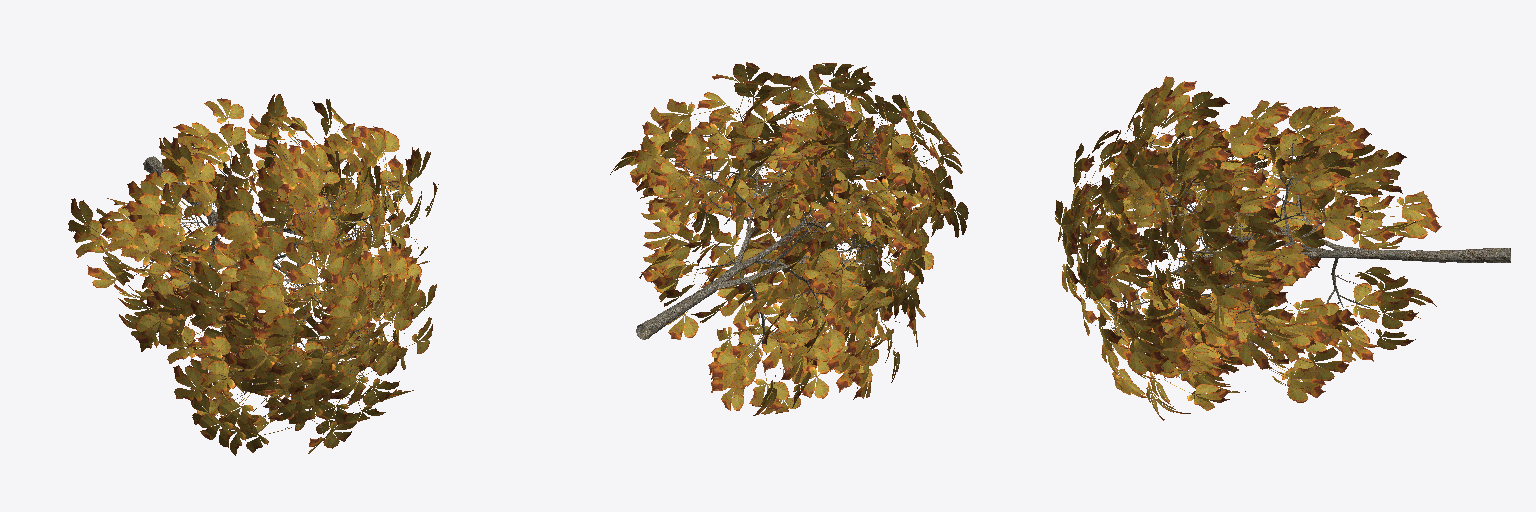
3 views of the same model, side by side, from view 1: azimuth 30°, elevation 25°; view 2: azimuth 150°, elevation 25°; view 3: azimuth 270°, elevation 25° (orthographic).
Visible parts, largest first — view 1: AL05y; view 2: AL05y; view 3: AL05y.
Part boxes in pixels (x1,y1,x2,y2): AL05y: (68,94,438,455); AL05y: (610,62,968,415); AL05y: (1055,76,1510,420).
Bounding box in the file's own units: 33.13 × 33.45 × 42.87.
Materials: 2 (2 with a texture image).